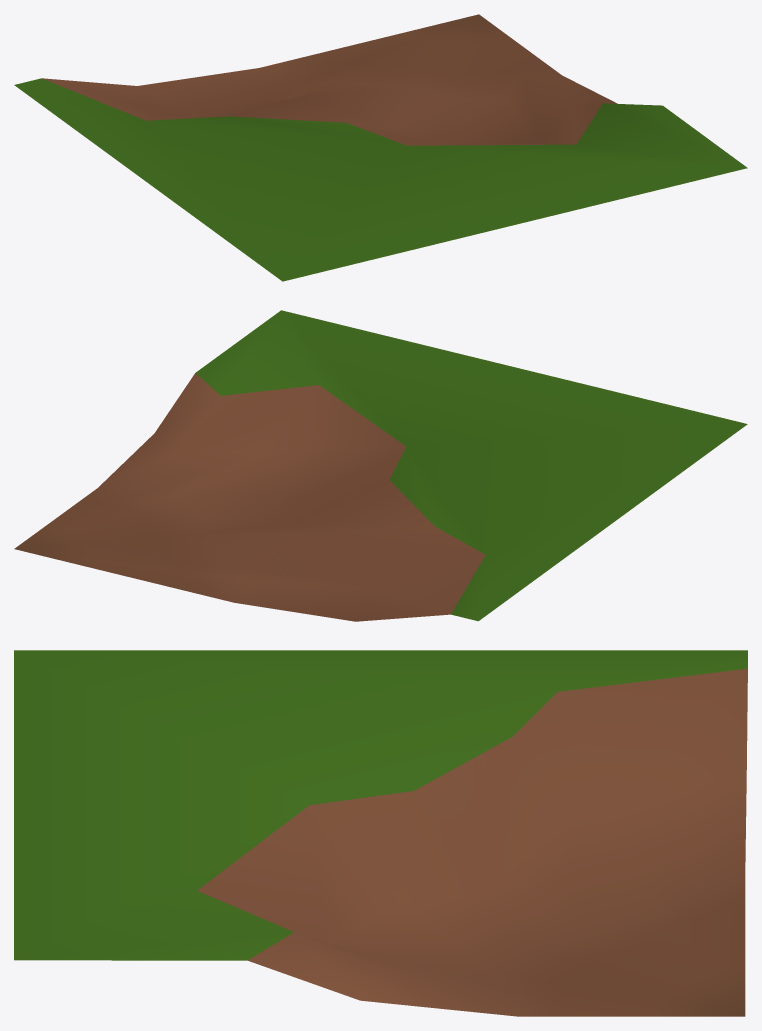
The model's file is GroundHole1_2.fbx.
3 views of the same model, one above another, from view 1: azimuth 30°, elevation 25°; view 2: azimuth 150°, elevation 25°; view 3: azimuth 270°, elevation 25° (orthographic). The views are drawn at different scales.
Parts seen in each view (by area): view 1: GroundHole1_2; view 2: GroundHole1_2; view 3: GroundHole1_2.
Boxes of the visible parts, x1,y1,x2,y2 form: GroundHole1_2: [14, 14, 747, 281]; GroundHole1_2: [14, 310, 747, 621]; GroundHole1_2: [14, 650, 747, 1016].
Size of the model in its own units: 400 by 34.37 by 400.
